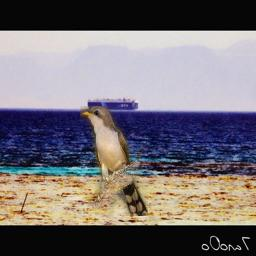Cuckoo: (80, 106, 148, 216)
